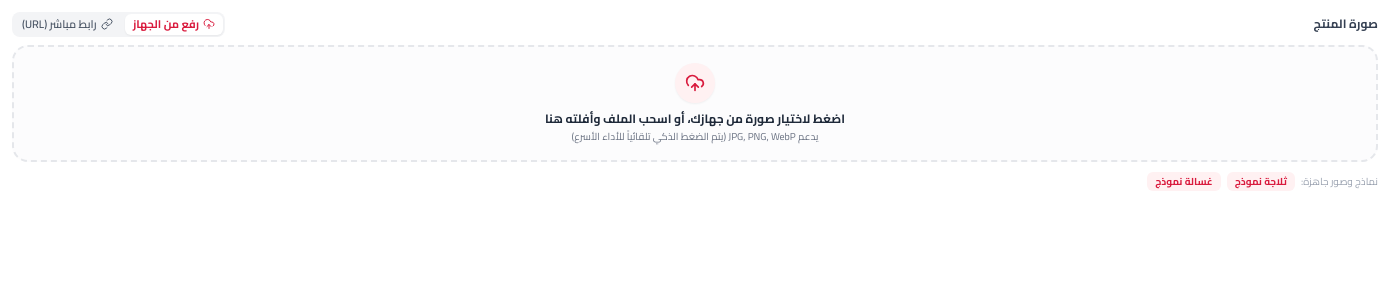
Test: ImageUploader Component › selects preset when clicking a preset chip
The width and height of the screenshot is (1390, 294).
Click the button "ثلاجة نموذج": (1261, 181) [1227,172,1295,190]
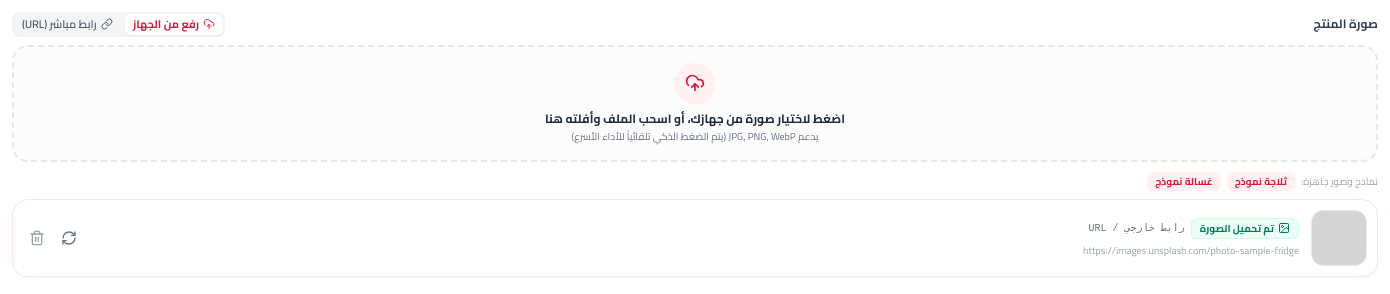
Expected: the text "تم تحميل الصورة" is shown, [1191,218,1299,238]
Expected: the text "https://images.unsplash.com/photo-sample-fridge" is shown, [1083,242,1299,258]
